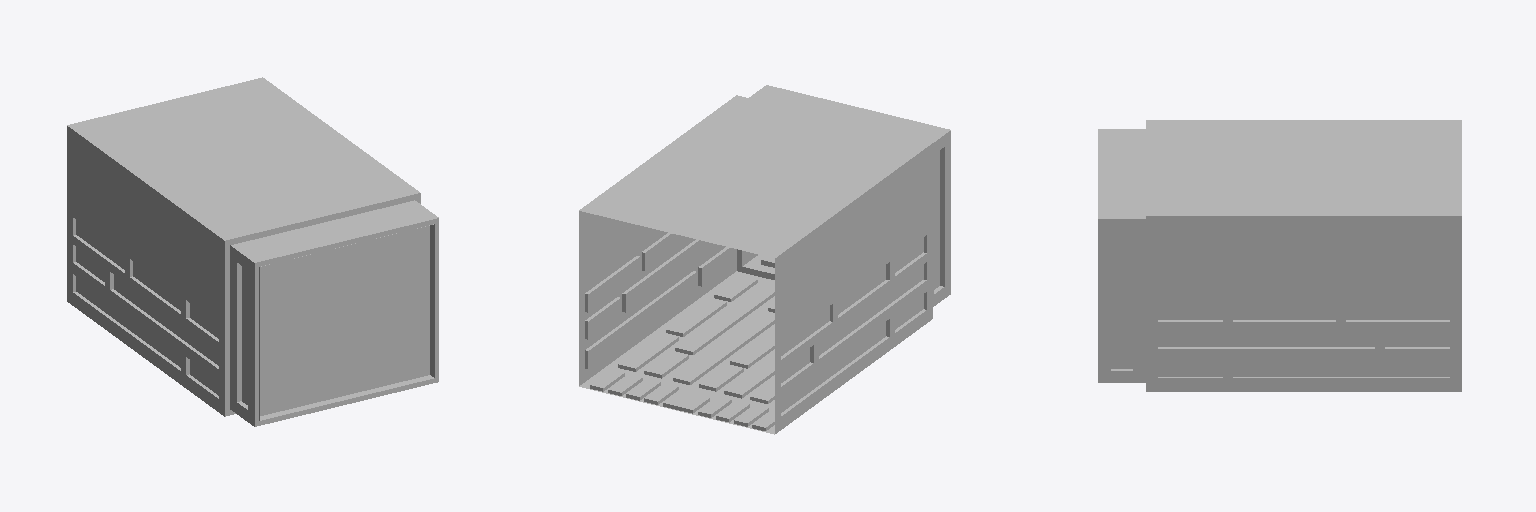
File: bloc.obj
3 renders of one model, left to right at view 1: azimuth 30°, elevation 25°; view 2: azimuth 150°, elevation 25°; view 3: azimuth 270°, elevation 25°, orthographic.
Visible parts, largest first — view 1: Building11; view 2: Building11; view 3: Building11.
Part boxes in pixels (x1,y1,x2,y2): Building11: (67,77,438,426); Building11: (579,85,950,434); Building11: (1098,120,1461,391).
Size of the model in its own units: 139 by 119 by 223.